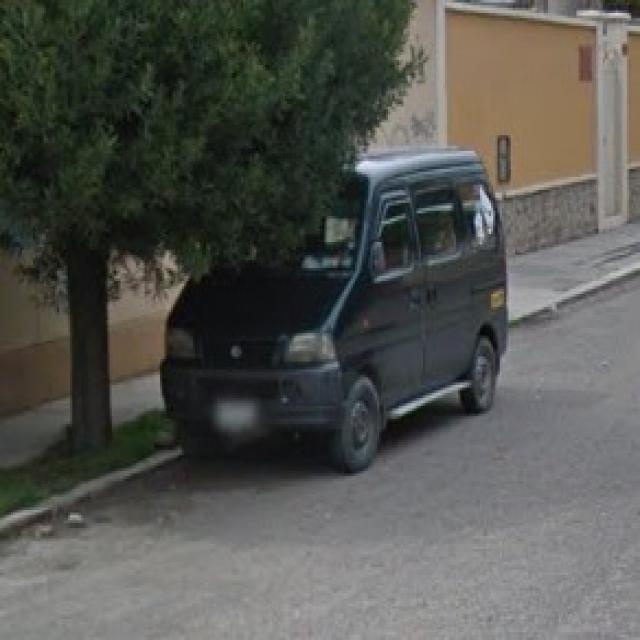Car: (165, 151, 506, 434)
